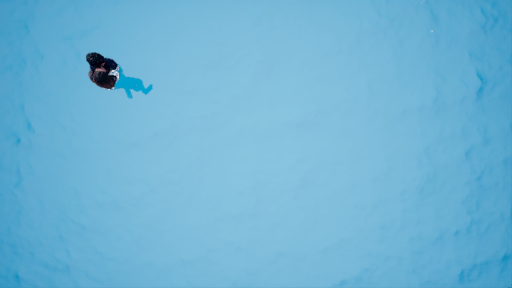person: (82, 49, 157, 100)
